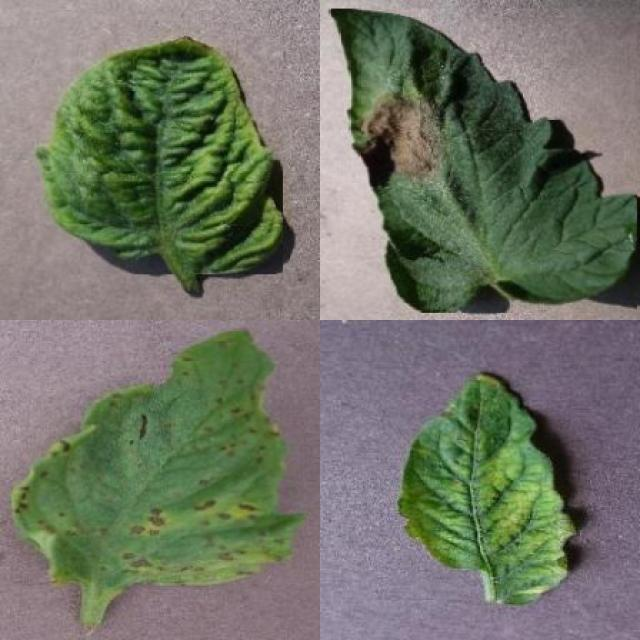Late Blight: (326, 8, 638, 313)
Mosaic Virus: (392, 371, 580, 606)
Septoria: (14, 327, 305, 587)
Yellow Leaf Curl Virus: (34, 35, 282, 274)
